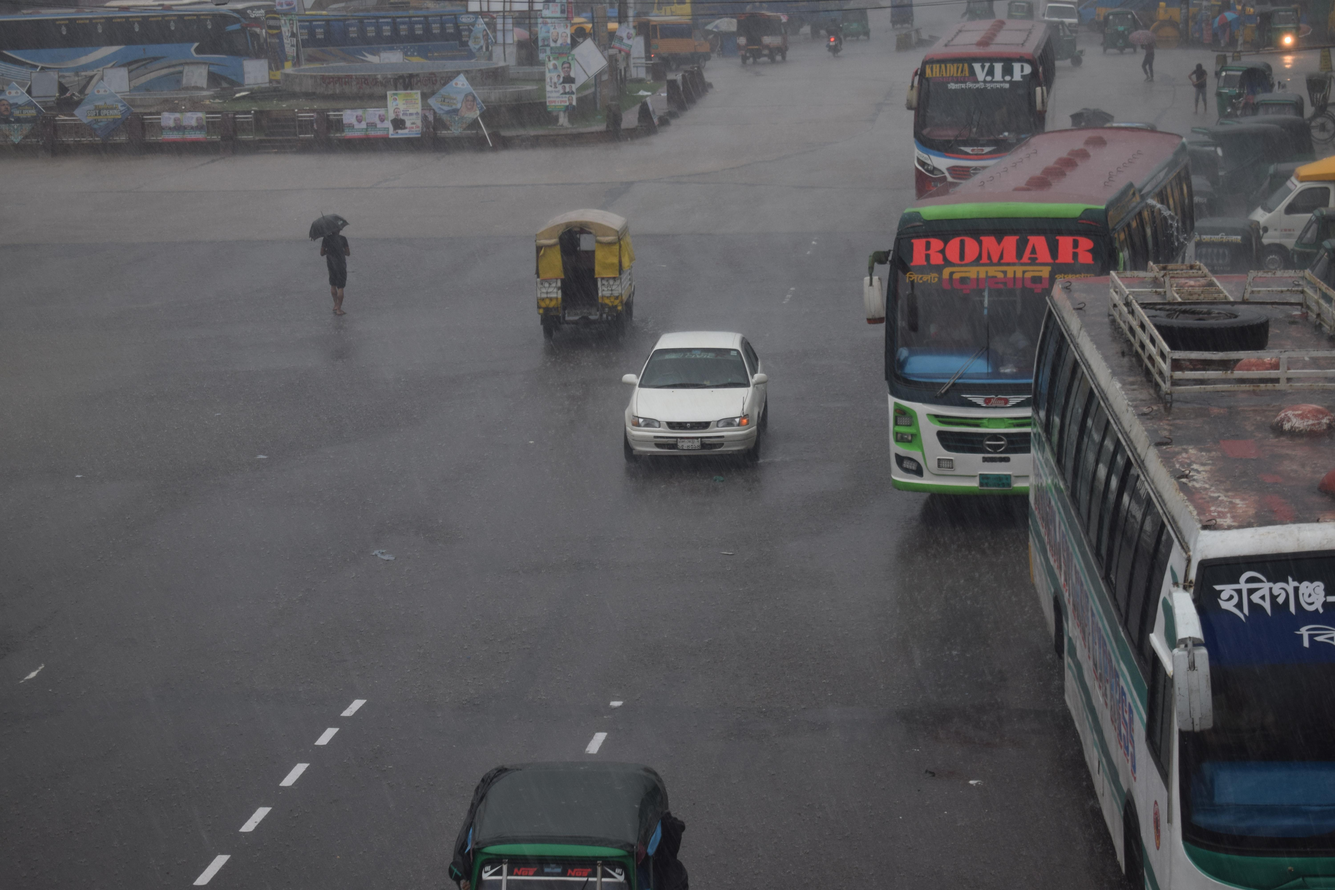Bike: (818, 19, 852, 64)
Bus: (953, 228, 1335, 890), (836, 103, 1177, 548), (0, 0, 285, 138), (880, 6, 1068, 197), (231, 0, 515, 104)
Car: (580, 312, 833, 496), (456, 171, 647, 350), (1217, 158, 1335, 271), (620, 1, 741, 97), (715, 0, 805, 71), (1082, 1, 1145, 65)
